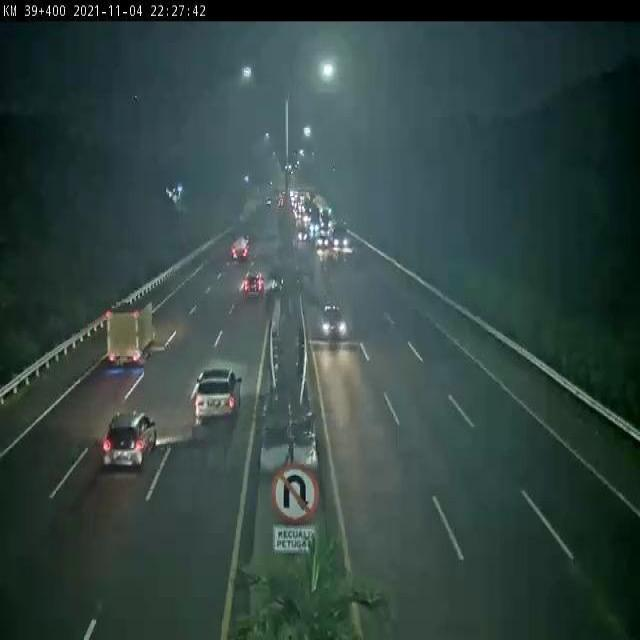car: (102, 409, 158, 471), (195, 368, 243, 423), (320, 303, 349, 344), (244, 267, 266, 297)
truck-l-: (231, 230, 249, 262)
truck-m-: (107, 299, 157, 364)
